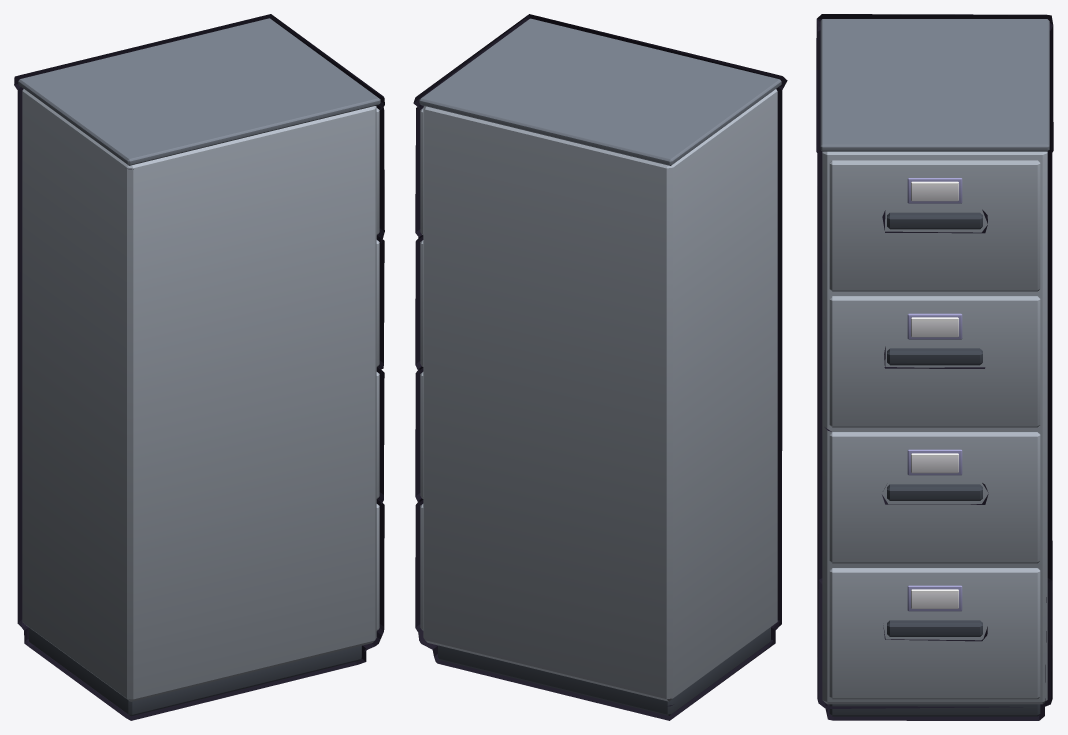
The model's file is Filing_Cabinet_Outline.fbx.
The picture shows the model from 3 angles, left to right: view 1: azimuth 30°, elevation 25°; view 2: azimuth 150°, elevation 25°; view 3: azimuth 270°, elevation 25°; orthographic projection. The views are drawn at different scales.
Visible parts, largest first — view 1: Filing_Cabinet; view 2: Filing_Cabinet; view 3: Filing_Cabinet.
Part boxes in pixels (<box>): Filing_Cabinet: <box>14,14,384,720</box>; Filing_Cabinet: <box>413,14,787,720</box>; Filing_Cabinet: <box>816,14,1053,720</box>.
Size of the model in its own units: 3.06 by 6.1 by 2.23.
Materials: 1 (1 with a texture image).
